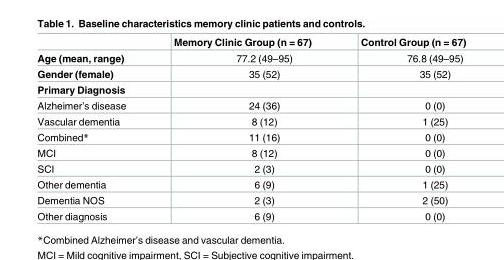table: (36, 37, 465, 221)
table column: (149, 37, 335, 221), (335, 37, 465, 221), (36, 37, 149, 221)
table column header: (36, 37, 465, 50)
table projected row header: (36, 82, 465, 97)
table row: (36, 128, 465, 145), (36, 50, 465, 66), (36, 66, 465, 82), (36, 97, 465, 113), (36, 145, 465, 161), (36, 176, 465, 192), (36, 192, 465, 208), (36, 82, 465, 97), (36, 113, 465, 128), (36, 161, 465, 176), (36, 37, 465, 50), (36, 208, 465, 221)
